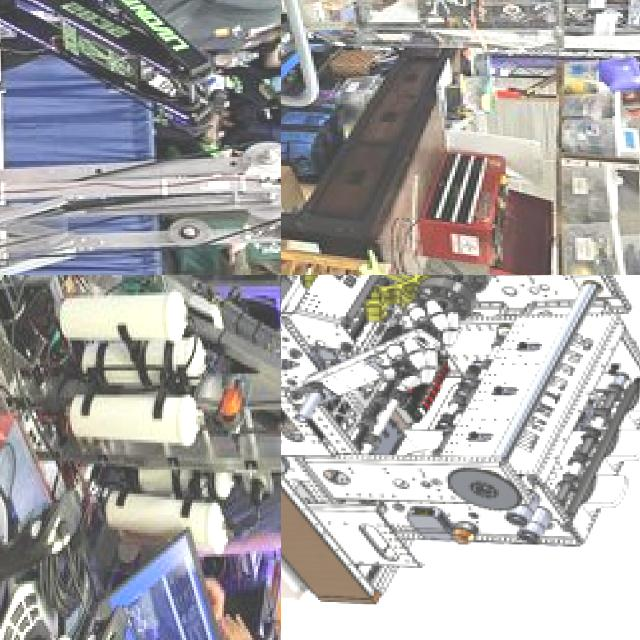FRC-Robots: (281, 275, 640, 638), (0, 275, 281, 640), (0, 0, 190, 257), (0, 110, 281, 275), (281, 0, 598, 121)
